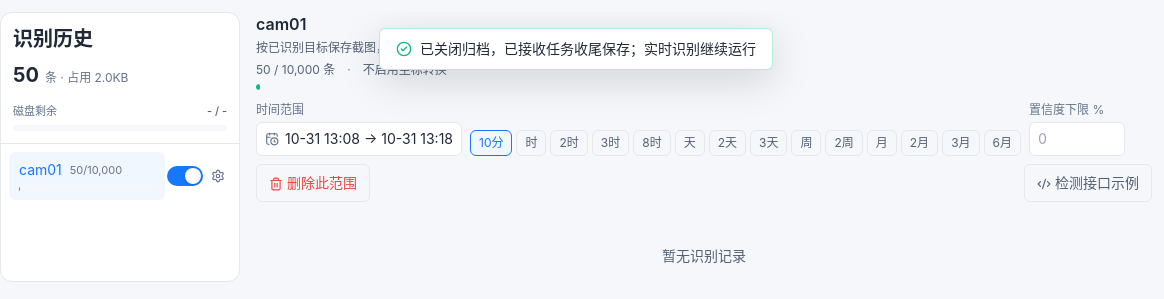
Test: RecognitionHistoryPage —— 热切换归档 › 保存期间禁止重复切换，失败后保留真实开关状态并允许重试
Click the switch named "「cam01」识别历史归档" at x=185, y=176, box [167,166,203,186]
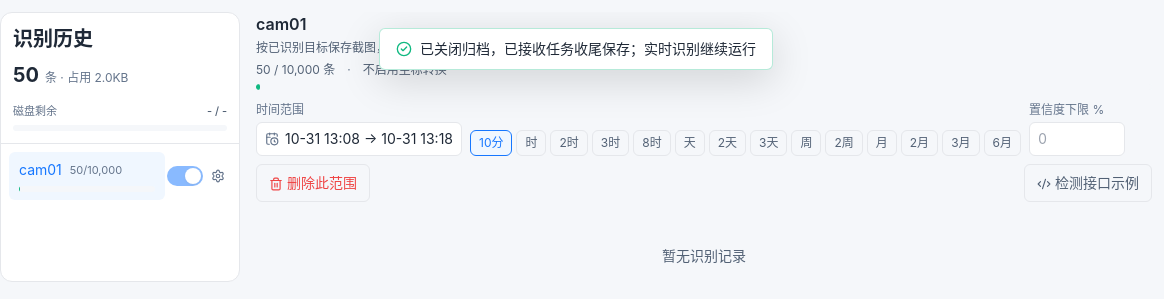
Expected: the switch named "「cam01」识别历史归档" is disabled
Click the switch named "「cam01」识别历史归档" at x=185, y=176, box [167,166,203,186]
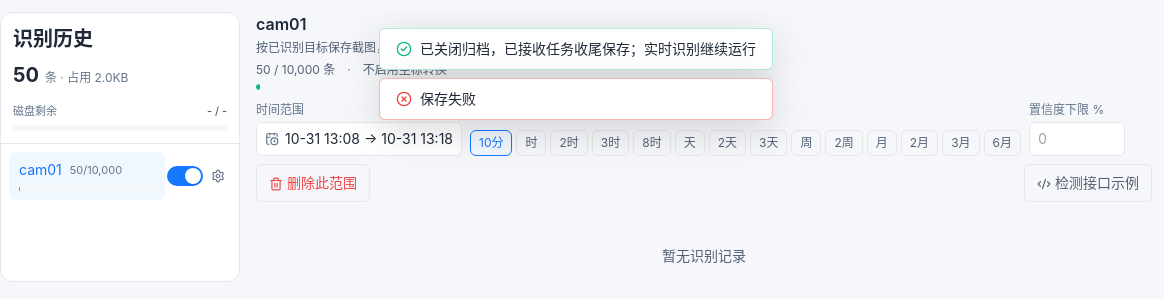
Expected: the switch named "「cam01」识别历史归档" is enabled, [167,166,203,186]
